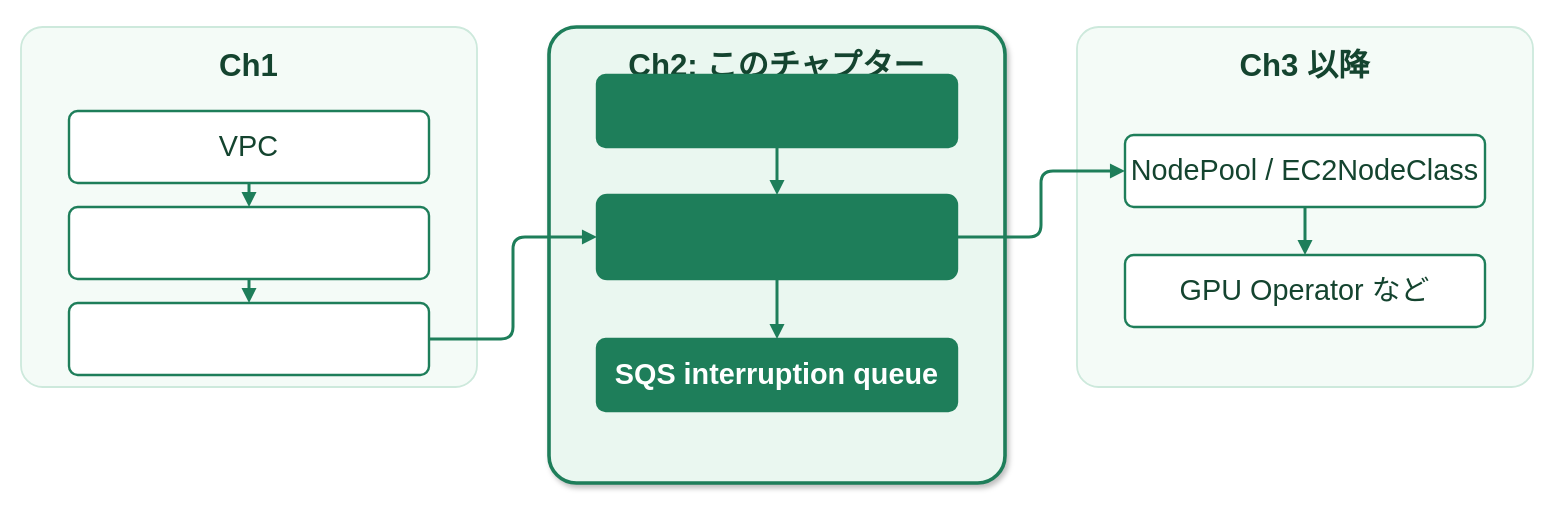
Some shapes in this 1555 by 514 pixel diagram are drawn without their labels. The shapes that lost their labels are listed below. From the top down, each one's centre as x and y in pixels, then its label:
At (776,110): "karpenter-crd chart".
At (248,242): "EKS コントロールプレーン".
At (776,236): "Karpenter コントローラ".
At (248,338): "System ノード".
